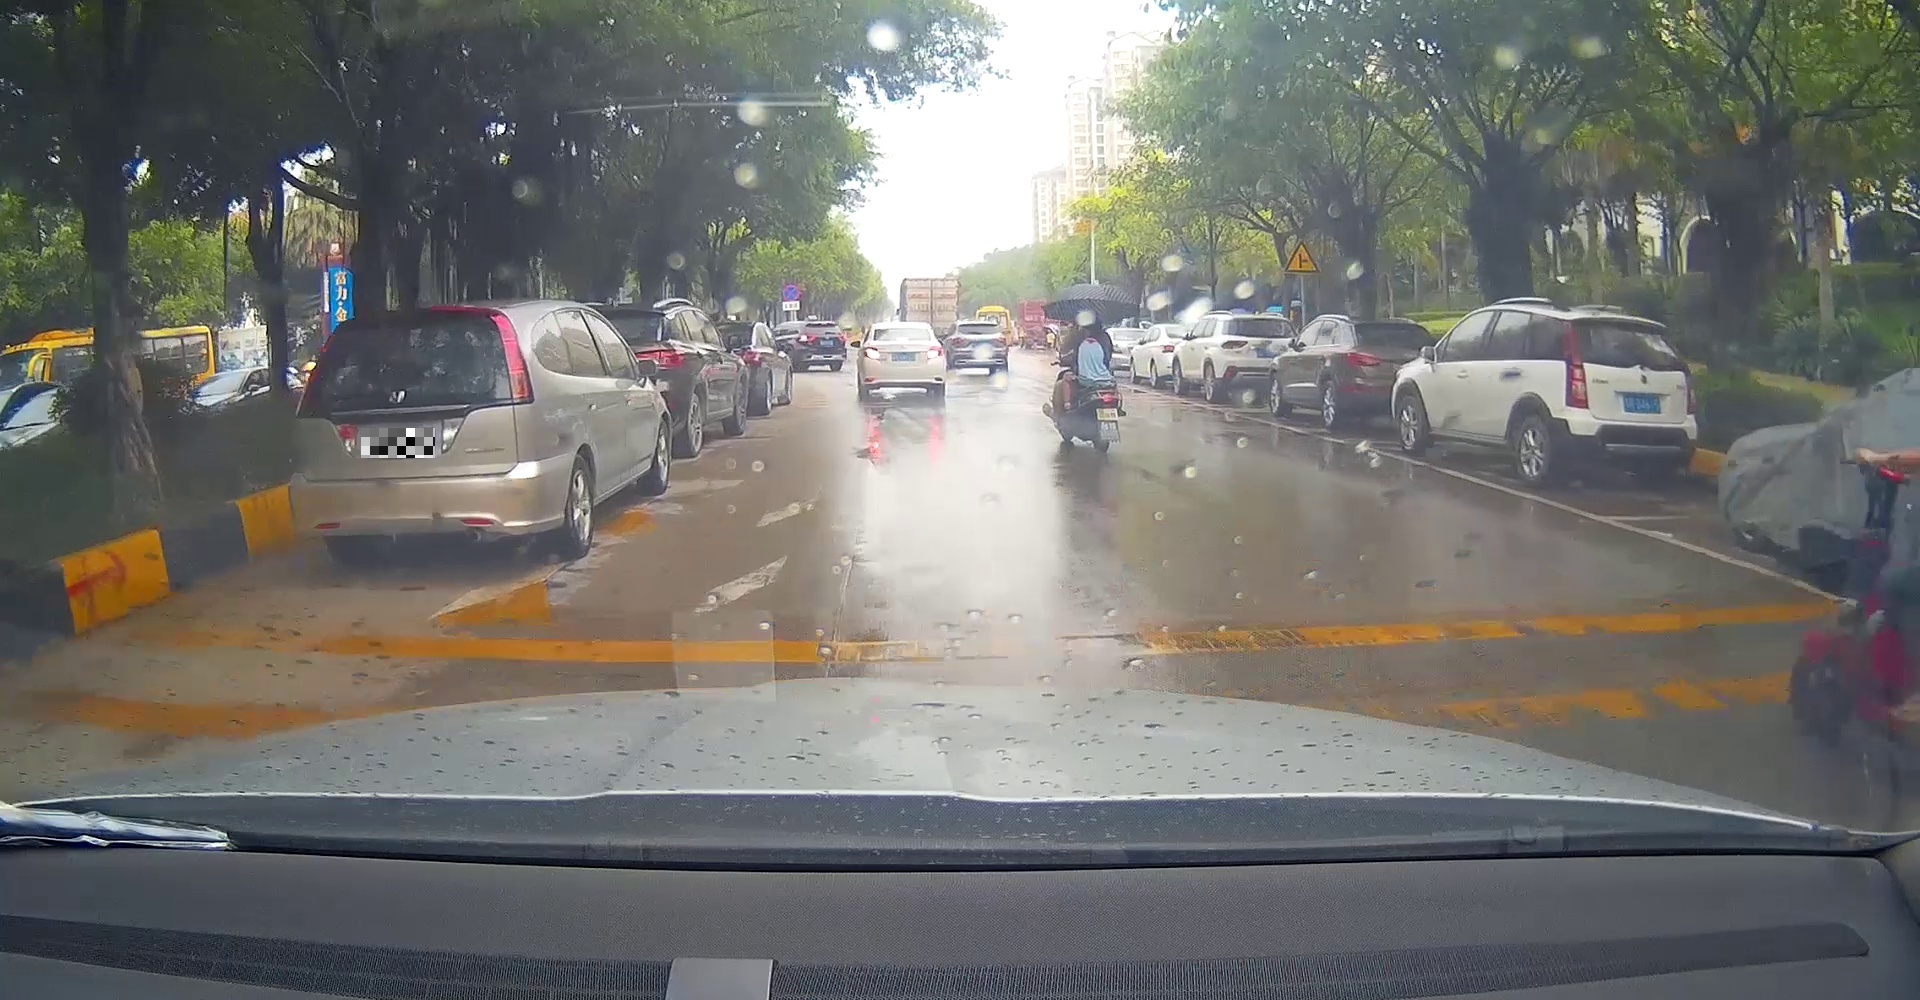L_light: (295, 320, 345, 418), (1561, 319, 1589, 409), (863, 346, 881, 362), (951, 338, 966, 346)
R_light: (485, 308, 535, 405), (1660, 329, 1697, 415), (926, 346, 943, 360), (993, 335, 1006, 346)
T_light: (392, 313, 430, 319), (1617, 321, 1643, 327), (897, 338, 908, 340), (975, 324, 985, 326)
day-brake: (858, 322, 946, 401)
day-no: (288, 306, 536, 565), (1559, 308, 1698, 490), (949, 320, 1008, 376)
plate_1: (361, 428, 436, 458)
